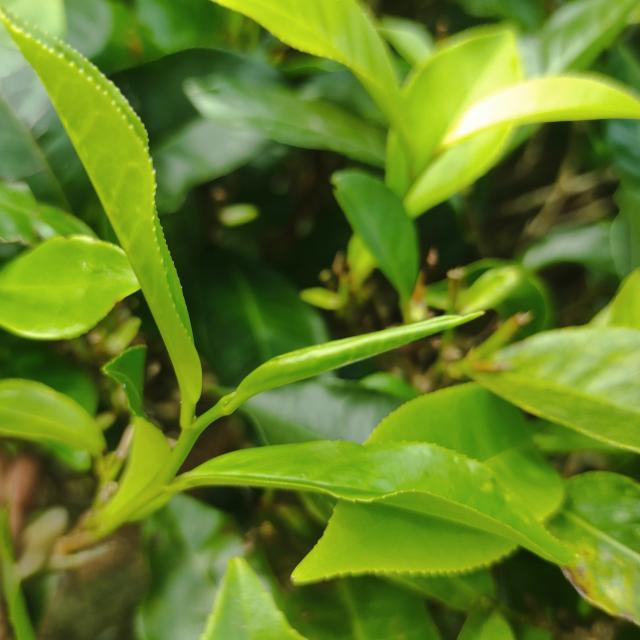unopened_leaf: (210, 302, 490, 419)
